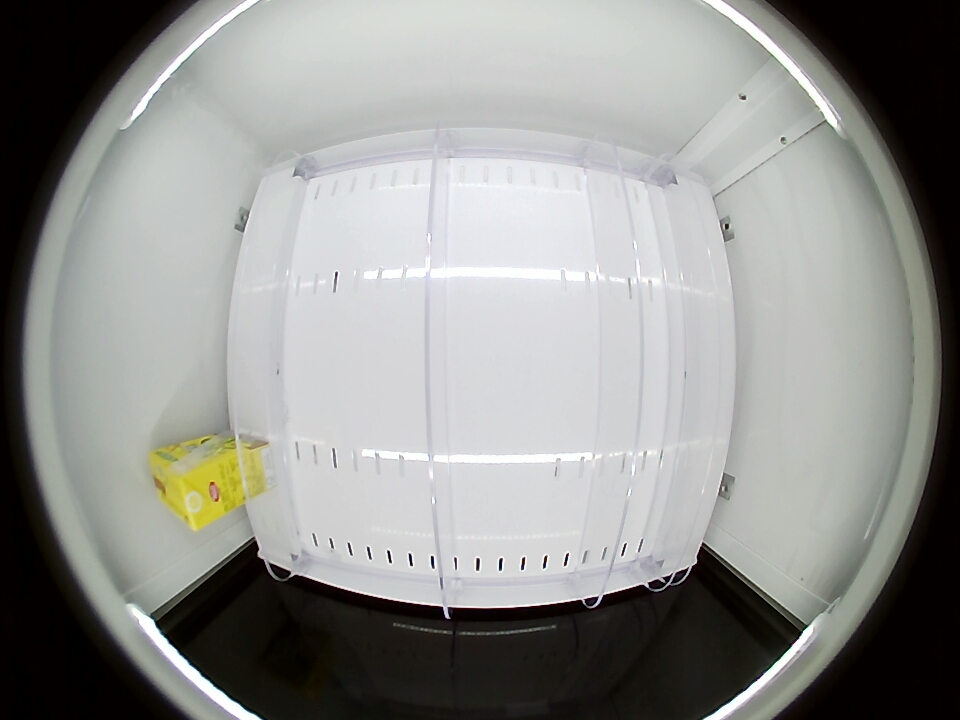weitaningmeng: (150, 442, 222, 530)
